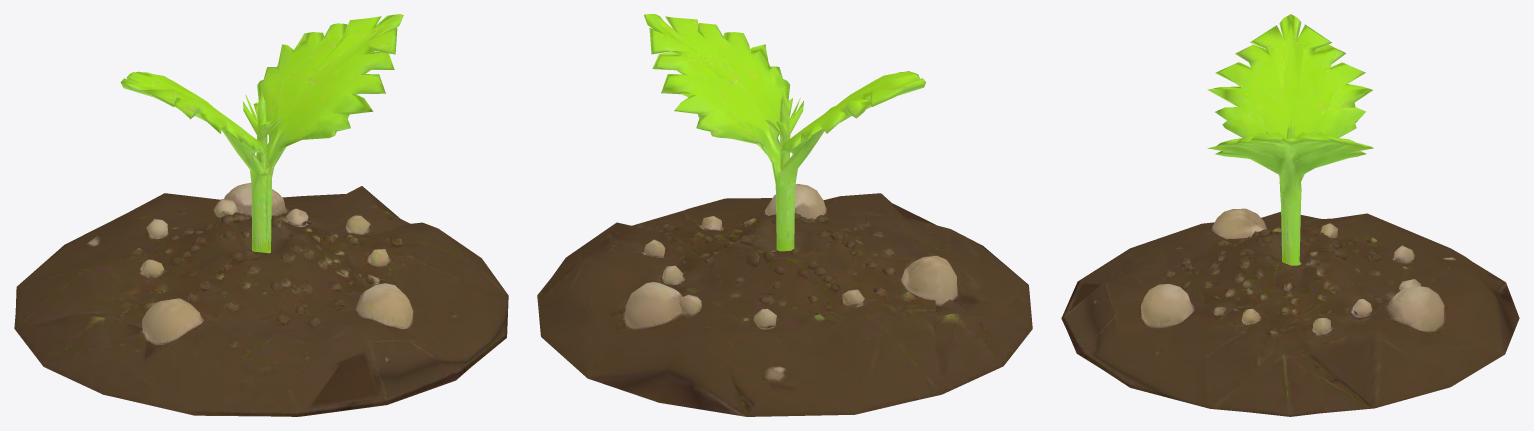
The model's file is canna_sprout.glb.
The picture shows the model from 3 angles, left to right: view 1: azimuth 30°, elevation 25°; view 2: azimuth 150°, elevation 25°; view 3: azimuth 270°, elevation 25°; orthographic projection. The views are drawn at different scales.
Bounding box in the file's own units: 0.998 × 0.5801 × 0.9902.
Materials: 1 (1 with a texture image).
